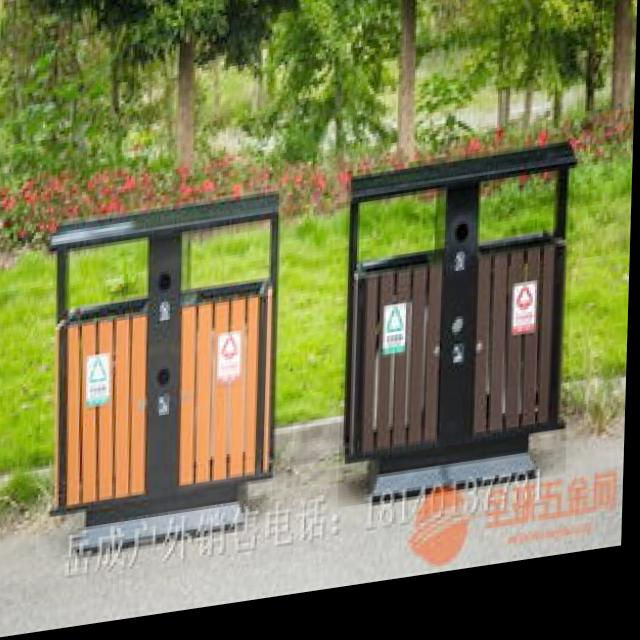garbage_bin: (40, 196, 283, 560), (341, 156, 577, 519)
